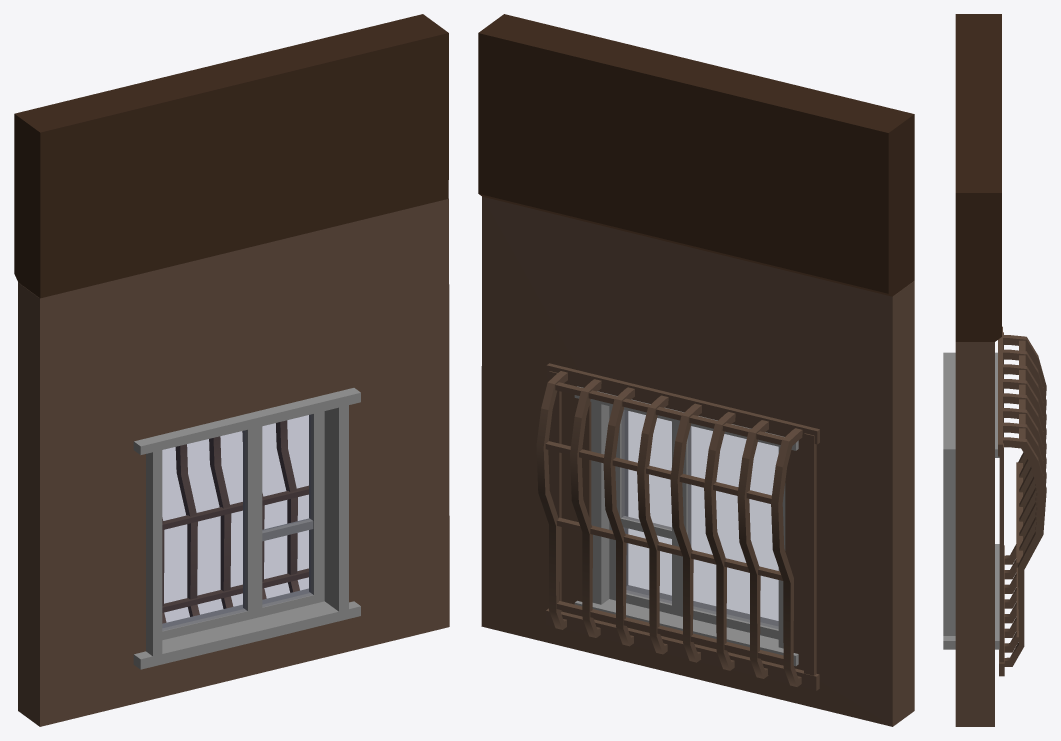
3 renders of one model, left to right at view 1: azimuth 30°, elevation 25°; view 2: azimuth 150°, elevation 25°; view 3: azimuth 270°, elevation 25°, orthographic. The views are drawn at different scales.
Visible parts, largest first — view 1: Hub_1st_floor_005; view 2: Hub_1st_floor_005; view 3: Hub_1st_floor_005.
Boxes of the visible parts, box(x1,y1,x2,y2) form: Hub_1st_floor_005: box(14, 14, 449, 726); Hub_1st_floor_005: box(478, 14, 914, 726); Hub_1st_floor_005: box(943, 14, 1046, 726).
Size of the model in its own units: 280 by 389 by 68.19.
